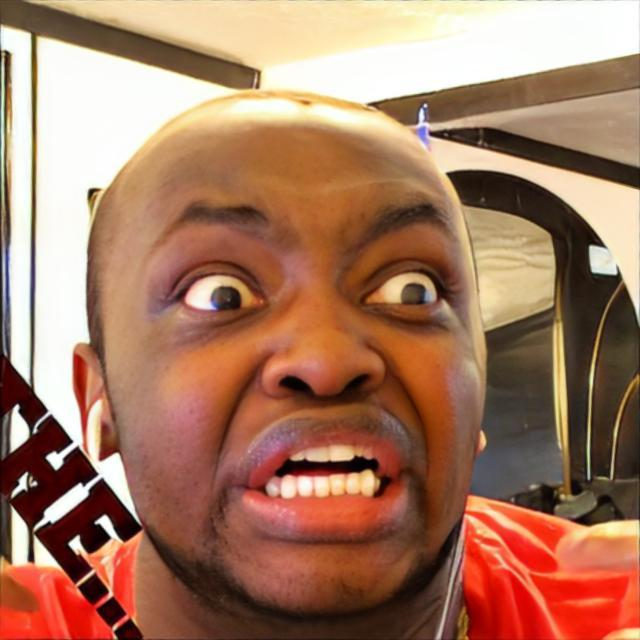fear: (107, 127, 480, 618)
